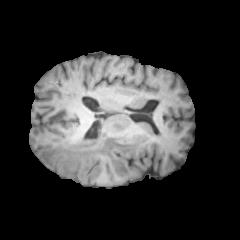glioma: (40, 114, 138, 179)
